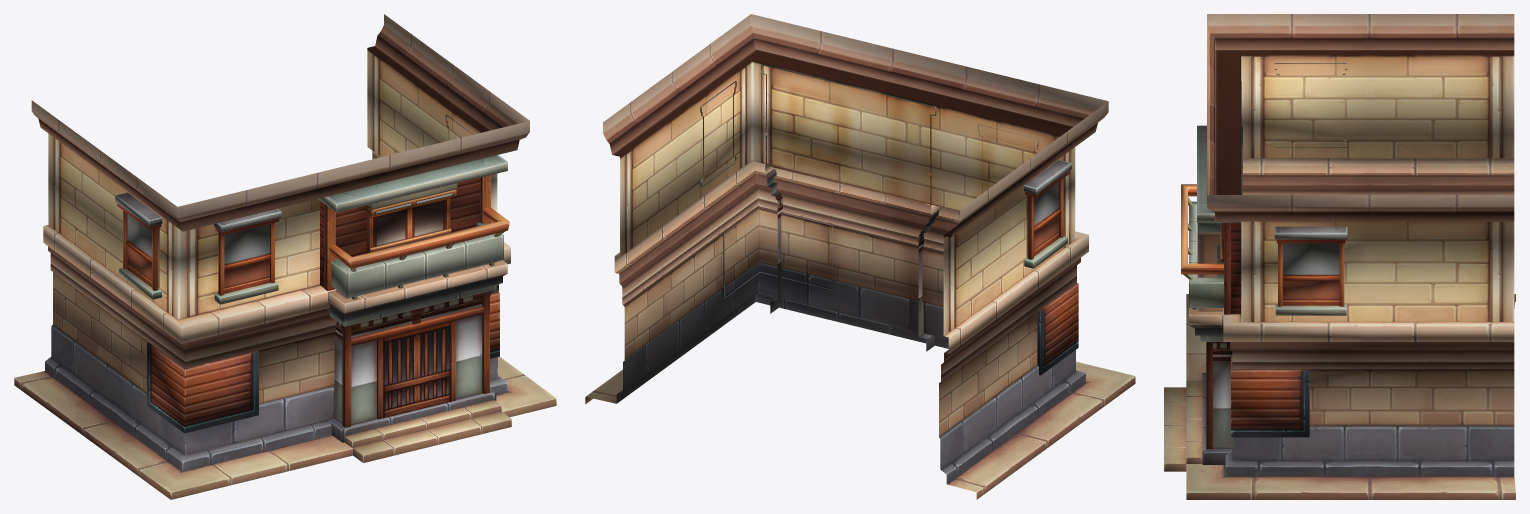
File: dj_fangzi1.FBX
3 renders of one model, left to right at view 1: azimuth 30°, elevation 25°; view 2: azimuth 150°, elevation 25°; view 3: azimuth 270°, elevation 25°, orthographic. The views are drawn at different scales.
Visible parts, largest first — view 1: dj_jianzhu_01; view 2: dj_jianzhu_01; view 3: dj_jianzhu_01.
Part boxes in pixels (x1,y1,x2,y2): dj_jianzhu_01: [14, 14, 556, 499]; dj_jianzhu_01: [585, 14, 1135, 499]; dj_jianzhu_01: [1164, 14, 1515, 499].
Size of the model in its own units: 857 by 598 by 643.
